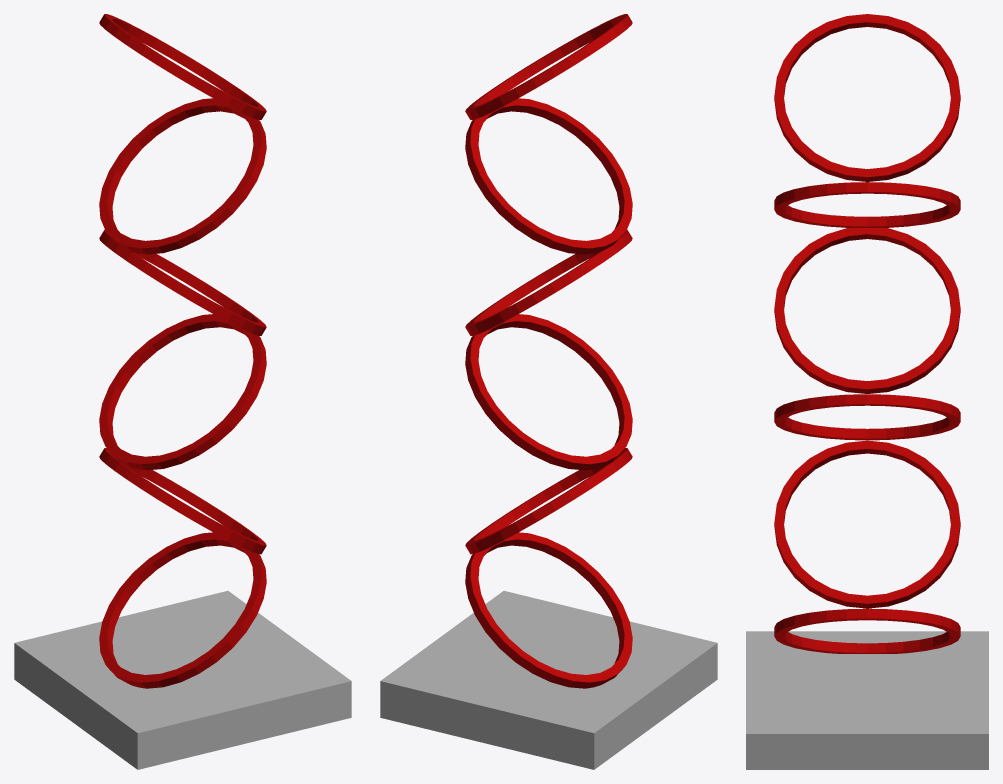
File: Art-09.fbx
3 renders of one model, left to right at view 1: azimuth 30°, elevation 25°; view 2: azimuth 150°, elevation 25°; view 3: azimuth 270°, elevation 25°, orthographic.
Visible parts, largest first — view 1: Art-09; view 2: Art-09; view 3: Art-09.
Boxes of the visible parts, <box> form: Art-09: <box>14,14,351,769</box>; Art-09: <box>380,14,717,769</box>; Art-09: <box>746,14,988,769</box>.
Size of what is drawn, in the model's own units: 4.01 by 12.28 by 4.01.
